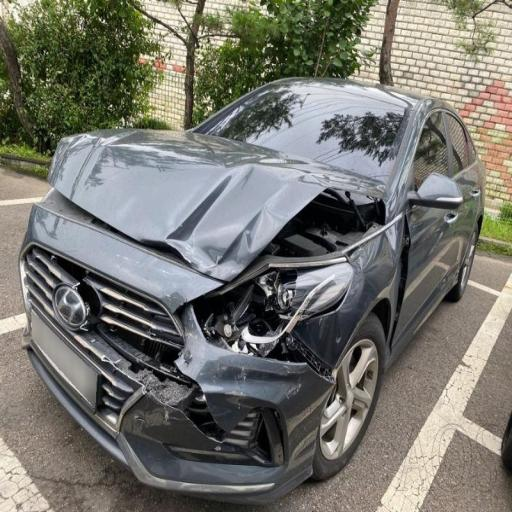broken: (88, 286, 313, 475), (338, 188, 434, 352)
dent: (90, 108, 274, 278)
